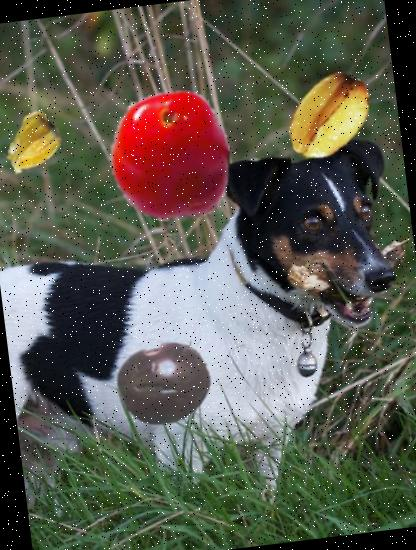Carambula: (275, 63, 383, 170)
Passion: (112, 330, 218, 437)
Physalis: (0, 109, 64, 178)
Tomato: (96, 81, 244, 230)
